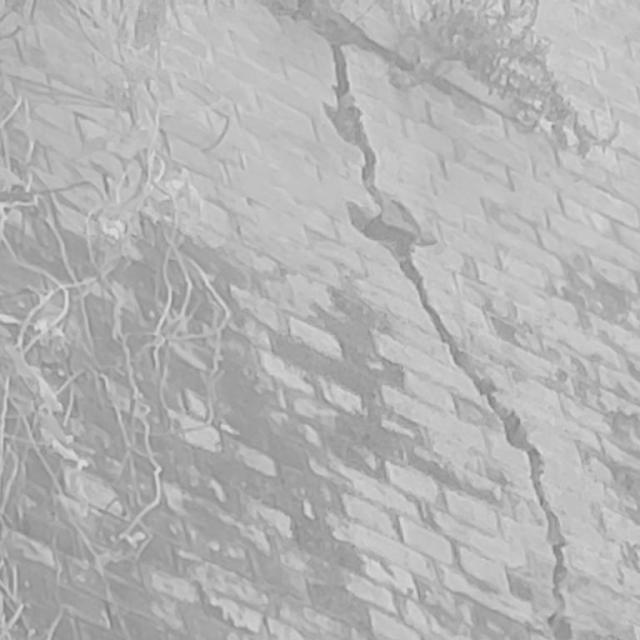crack: (257, 1, 574, 640)
